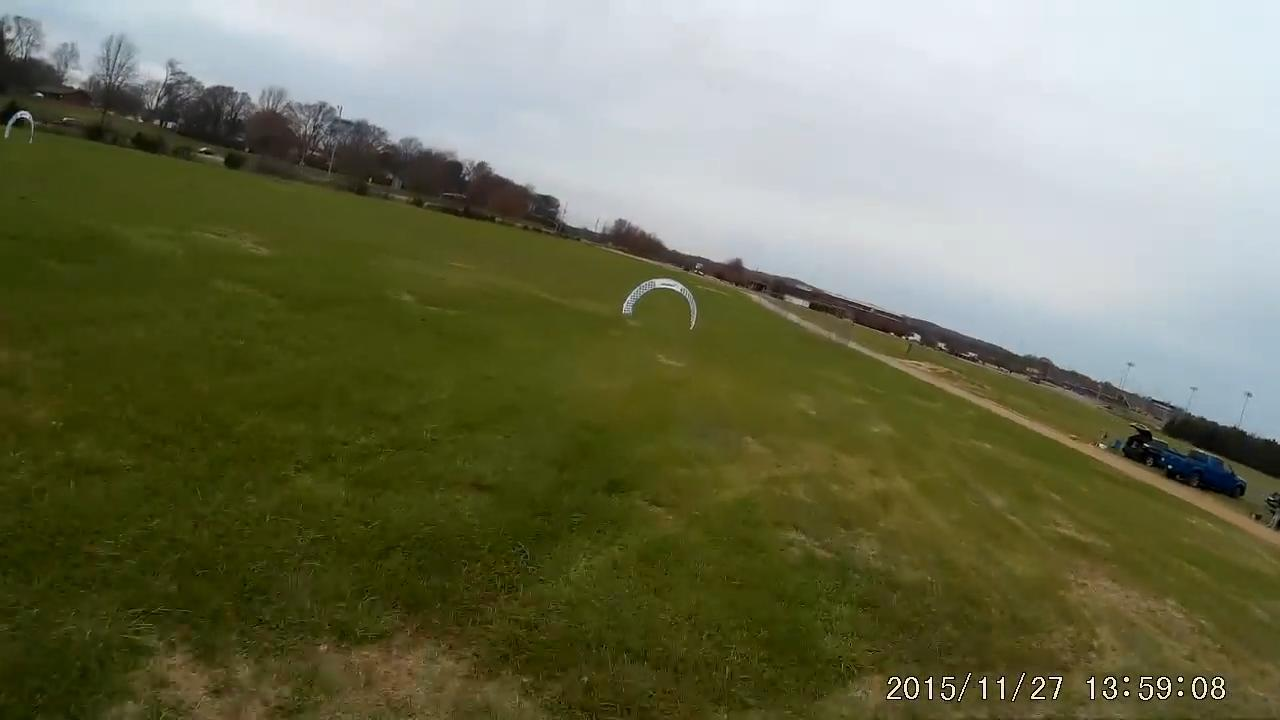gate: (621, 277, 697, 335)
